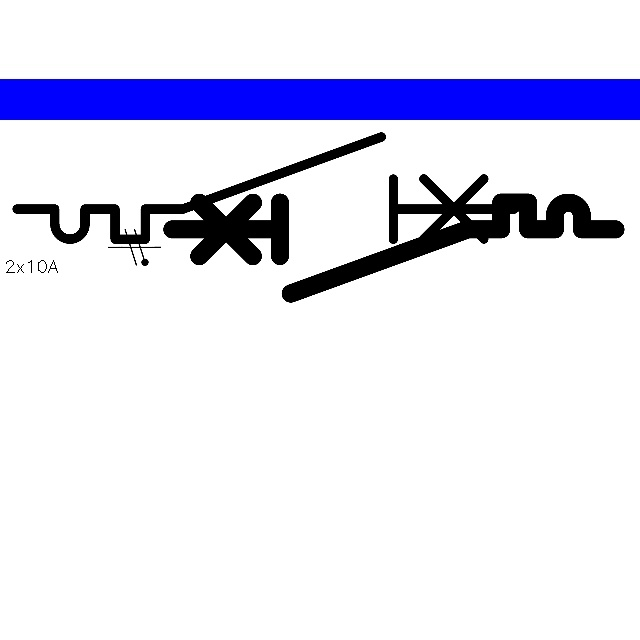interruptor_termomagnetico: (4, 124, 527, 252), (160, 191, 626, 305)
